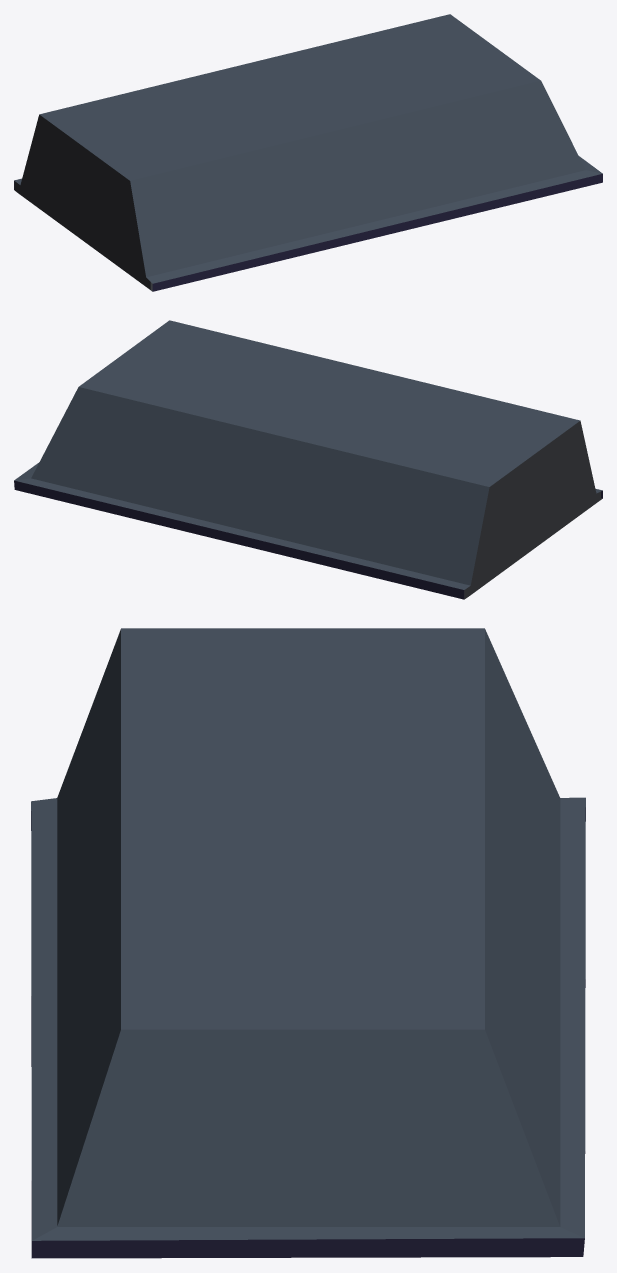
Rendered from Roof_DOUBLELeft.fbx.
3 renders of one model, top to bottom at view 1: azimuth 30°, elevation 25°; view 2: azimuth 150°, elevation 25°; view 3: azimuth 270°, elevation 25°, orthographic. The views are drawn at different scales.
Parts seen in each view (by area): view 1: Cube; view 2: Cube; view 3: Cube.
Part boxes in pixels (left/top/right/bottom): Cube: left=14, top=14, right=602, bottom=291; Cube: left=14, top=320, right=602, bottom=599; Cube: left=31, top=628, right=585, bottom=1258.
Bounding box in the file's own units: 1000 × 202 × 533.
